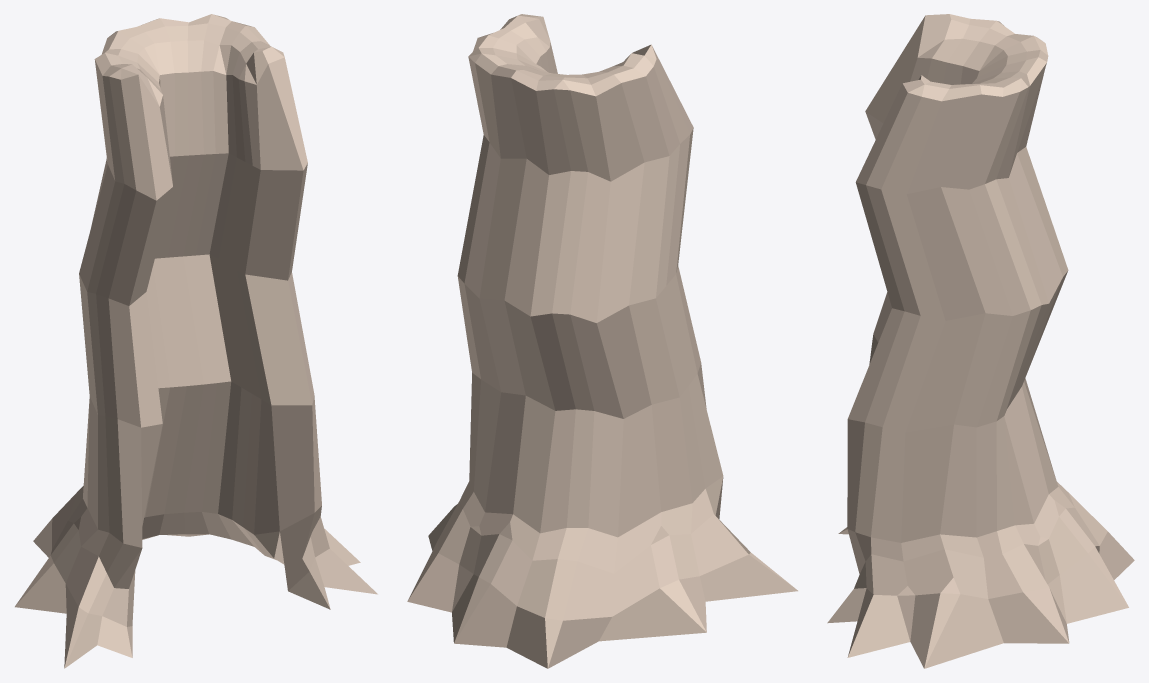
The model's file is RunThwoughTwee_01fbx_2.fbx.
The picture shows the model from 3 angles, left to right: view 1: azimuth 30°, elevation 25°; view 2: azimuth 150°, elevation 25°; view 3: azimuth 270°, elevation 25°; orthographic projection.
Parts seen in each view (by area): view 1: treeeeee111; view 2: treeeeee111; view 3: treeeeee111.
Boxes of the visible parts, x1,y1,x2,y2 form: treeeeee111: [15, 14, 377, 668]; treeeeee111: [407, 14, 797, 668]; treeeeee111: [827, 14, 1134, 668].
Size of the model in its own units: 362 by 573 by 289.
